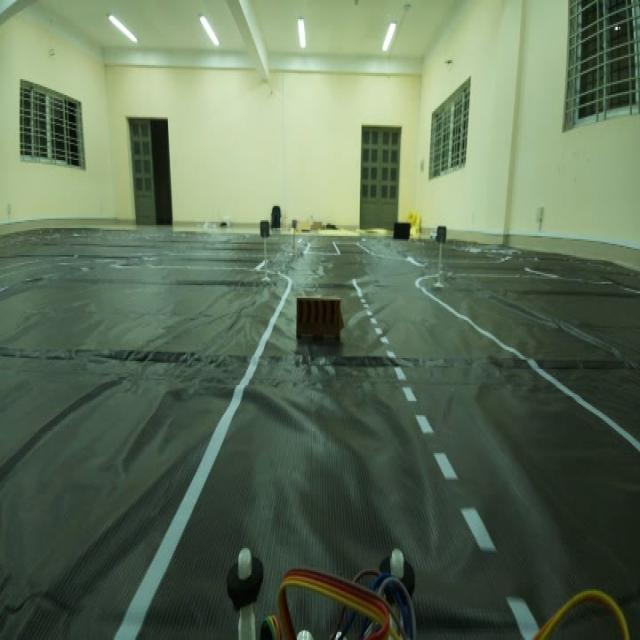roadblock: (293, 286, 352, 359)
